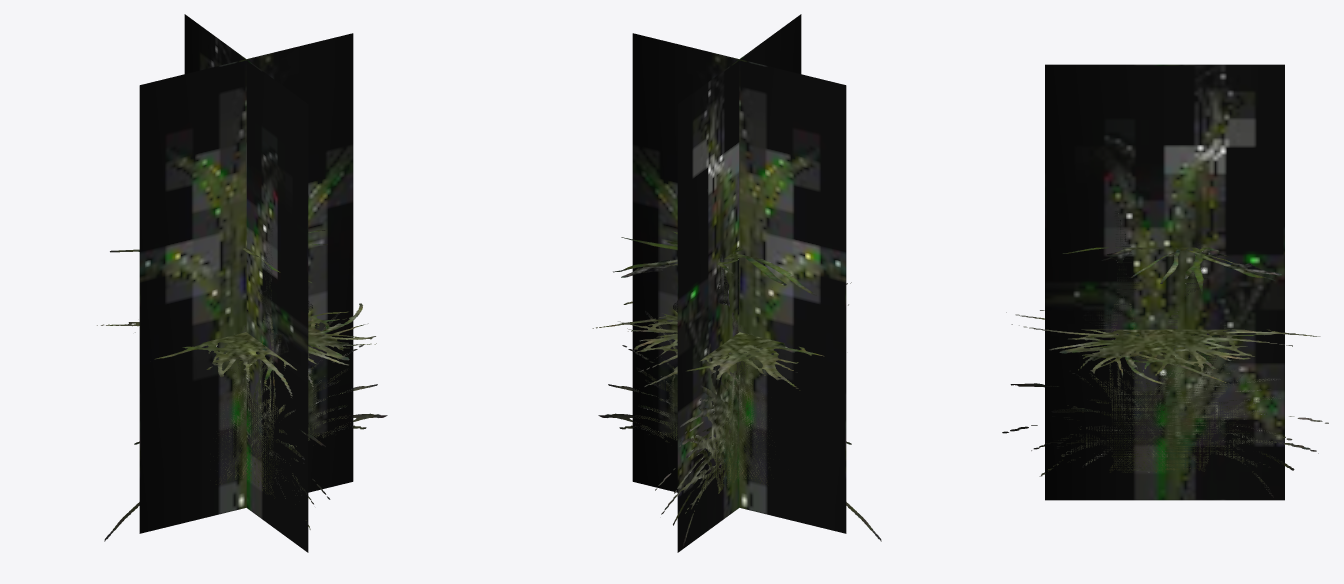
The model's file is grass.glb.
3 renders of one model, left to right at view 1: azimuth 30°, elevation 25°; view 2: azimuth 150°, elevation 25°; view 3: azimuth 270°, elevation 25°, orthographic. The views are drawn at different scales.
Visible parts, largest first — view 1: grass_0, grass_1; view 2: grass_0, grass_1; view 3: grass_0, grass_1.
Boxes of the visible parts, left/top/right/bottom form: grass_0: left=110, top=14, right=353, bottom=552; grass_1: left=97, top=228, right=387, bottom=541; grass_0: left=613, top=14, right=846, bottom=552; grass_1: left=592, top=254, right=881, bottom=546; grass_0: left=1045, top=64, right=1284, bottom=500; grass_1: left=1002, top=211, right=1328, bottom=497.
Size of the model in its own units: 0.2214 by 0.3225 by 0.2214.
4 materials, 4 textured.
